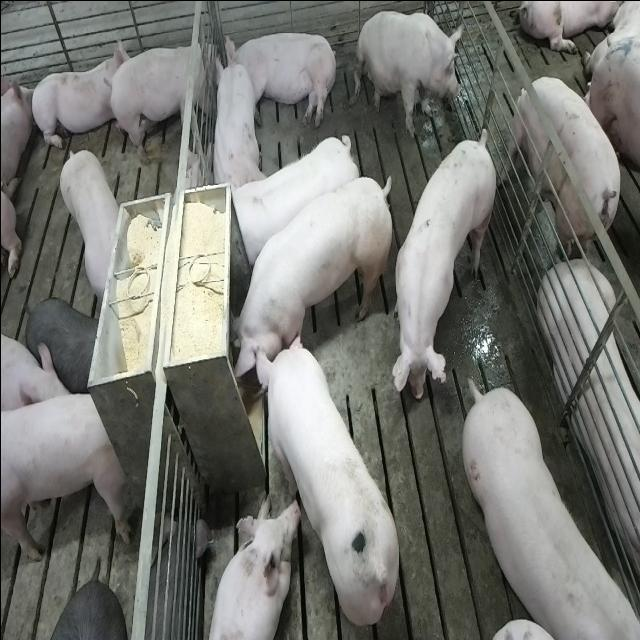Feeding: (250, 332, 400, 626), (222, 173, 390, 395)
Lateral_lying: (222, 28, 338, 128)
Sitting: (354, 7, 463, 138)
Standing: (458, 381, 634, 640), (394, 128, 500, 414), (1, 386, 130, 566), (509, 76, 626, 262), (227, 128, 359, 266), (106, 32, 218, 166), (54, 142, 122, 298), (21, 291, 100, 391)
Sternal_lying: (539, 262, 640, 599), (202, 494, 296, 640), (27, 34, 123, 156), (207, 45, 262, 194)
